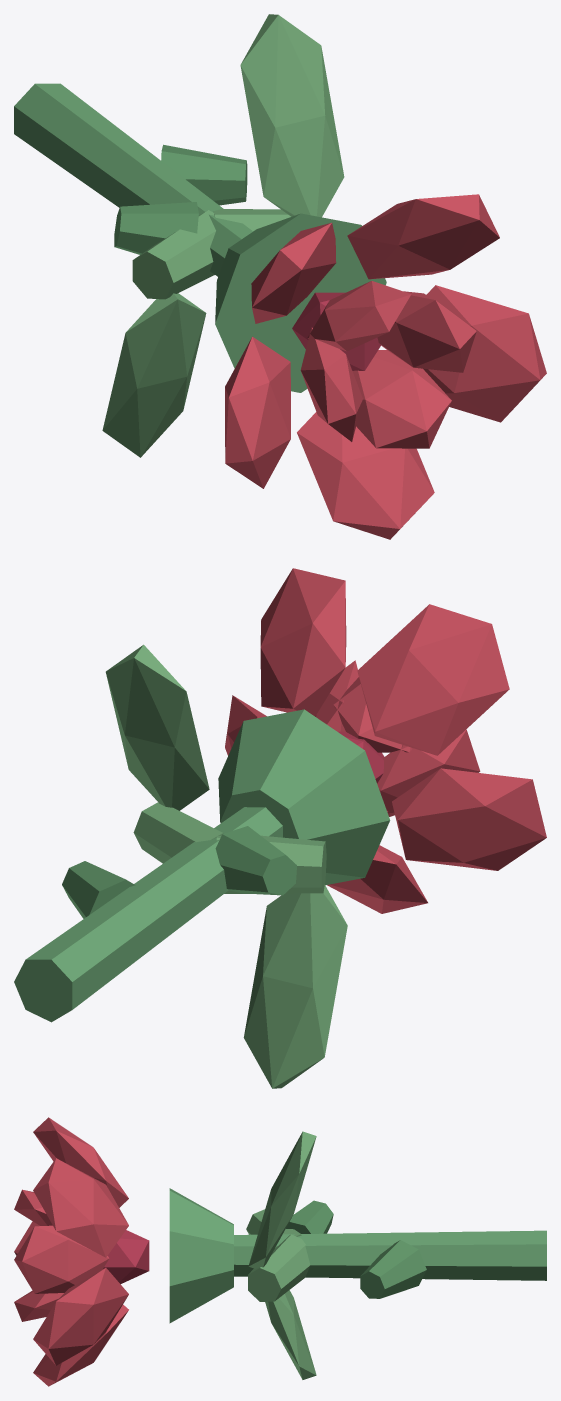
3 renders of one model, top to bottom at view 1: azimuth 30°, elevation 25°; view 2: azimuth 150°, elevation 25°; view 3: azimuth 270°, elevation 25°, orthographic. The views are drawn at different scales.
Visible parts, largest first — view 1: part4, part0, part6, part7, part16, part17, part13, part15, part12, part9, part14, part5 (+6 smaller); view 2: part7, part0, part14, part6, part15, part13, part4, part2, part16, part11, part3, part1 (+5 smaller); view 3: part0, part7, part13, part17, part9, part4, part14, part1, part3, part6, part8, part16 (+4 smaller).
Boxes of the visible parts, x1,y1,x2,y2 form: part4: (240,14,344,217); part0: (14,83,252,276); part6: (102,293,206,457); part7: (215,213,386,392); part16: (297,412,434,539); part17: (423,285,546,422); part13: (347,194,499,279); part15: (225,336,290,488); part12: (352,350,451,448); part9: (377,291,476,372); part14: (251,222,336,323); part5: (132,210,215,299); part7: (218,709,390,885); part0: (14,807,282,1022); part14: (357,604,509,755); part6: (243,885,347,1088); part15: (392,768,546,870); part13: (260,568,346,716); part4: (105,644,209,810); part2: (215,826,296,895); part16: (327,845,427,913); part11: (377,729,480,813); part3: (133,802,223,863); part1: (62,861,135,918); part0: (234,1230,546,1280); part7: (169,1188,233,1323); part13: (33,1158,128,1257); part17: (33,1268,128,1365); part9: (14,1225,109,1293); part4: (248,1131,316,1268); part14: (33,1117,128,1207); part1: (360,1240,426,1298); part3: (248,1234,310,1301); part6: (265,1290,316,1379); part8: (103,1230,149,1284); part16: (33,1304,128,1386).
Size of the model in its own units: 2.1 by 2.55 by 4.14.
